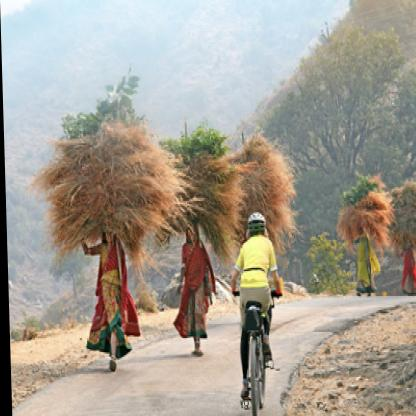With Helmet: (245, 209, 267, 237)
